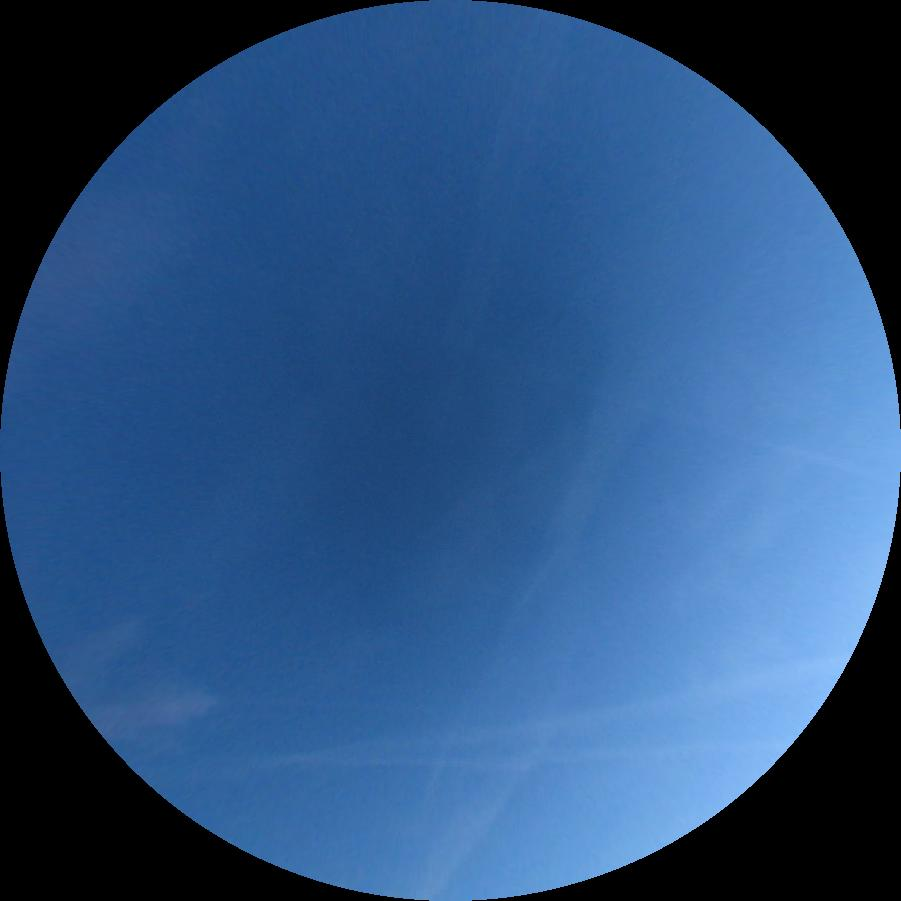contrail veryold: (415, 408, 646, 896), (262, 653, 851, 771), (425, 11, 566, 471), (478, 339, 899, 490)
